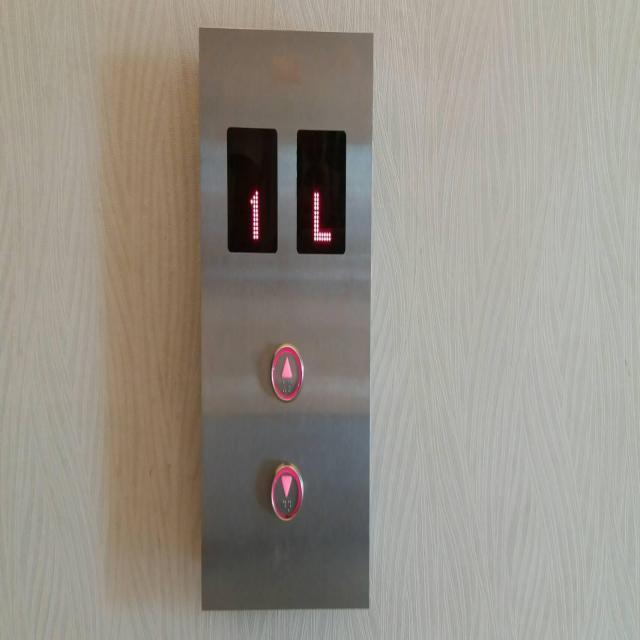down: (267, 459, 305, 525)
led: (290, 123, 350, 264), (222, 119, 280, 260)
up: (268, 338, 304, 405)
